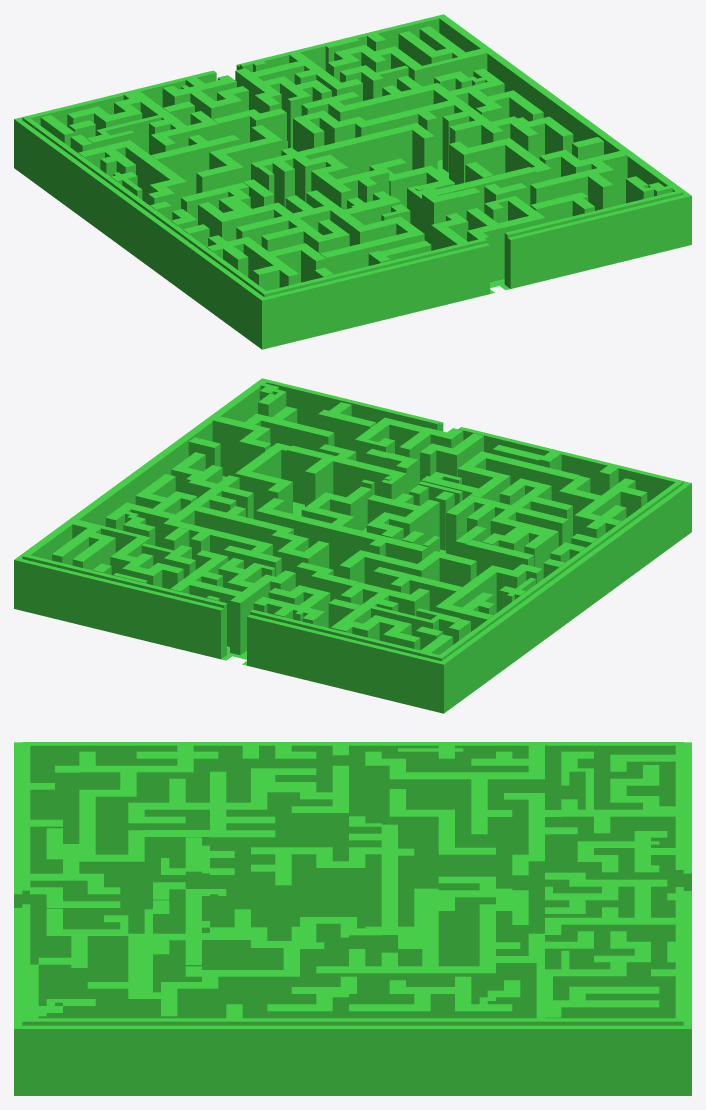
Rendered from maze2.fbx.
The picture shows the model from 3 angles, top to bottom: view 1: azimuth 30°, elevation 25°; view 2: azimuth 150°, elevation 25°; view 3: azimuth 270°, elevation 25°; orthographic projection. The views are drawn at different scales.
Visible parts, largest first — view 1: Plane; view 2: Plane; view 3: Plane.
Part boxes in pixels (left/top/right/bottom): Plane: left=14, top=14, right=691, bottom=349; Plane: left=14, top=378, right=691, bottom=713; Plane: left=14, top=742, right=691, bottom=1095.
Size of the model in its own units: 40164 by 4934 by 40164.
